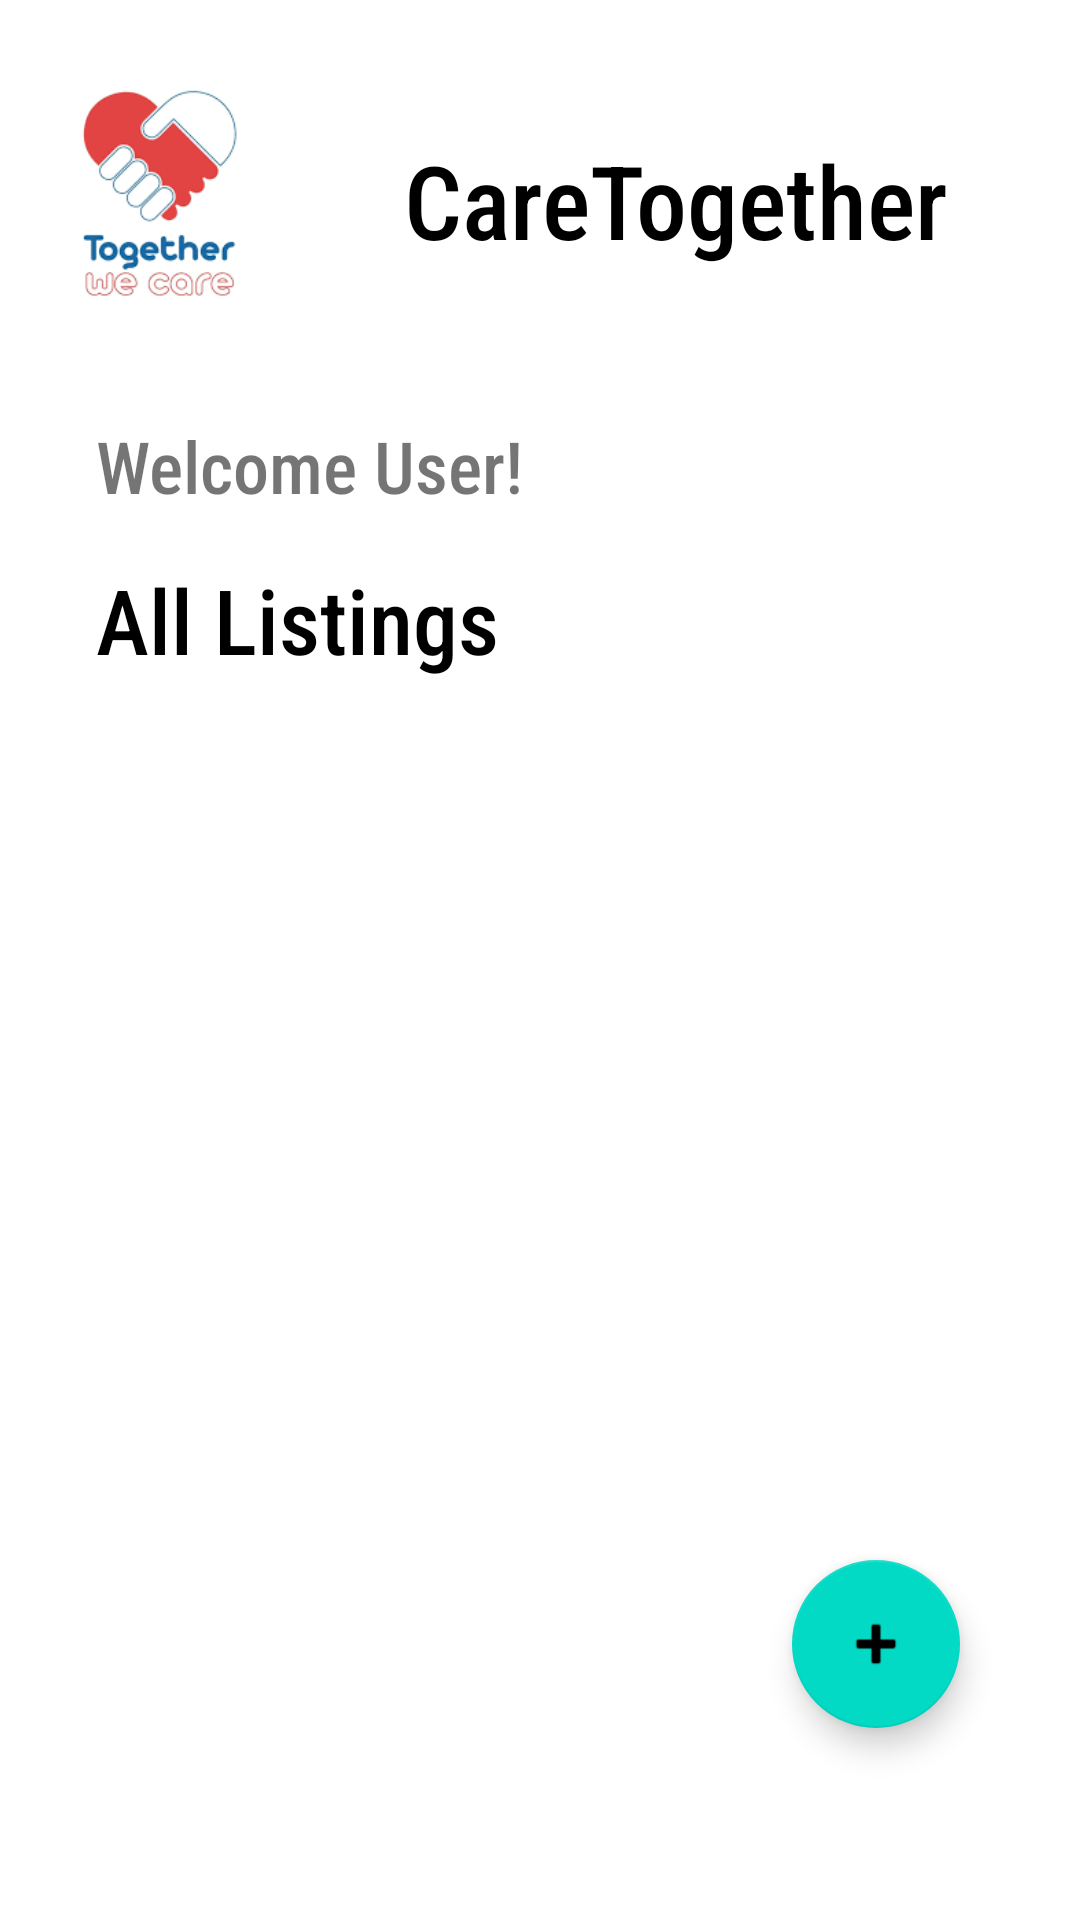

Where icons sit on this 1080x1920 app screen, as (x1, y1, x2, y2):
add: (792, 1560, 960, 1728)
